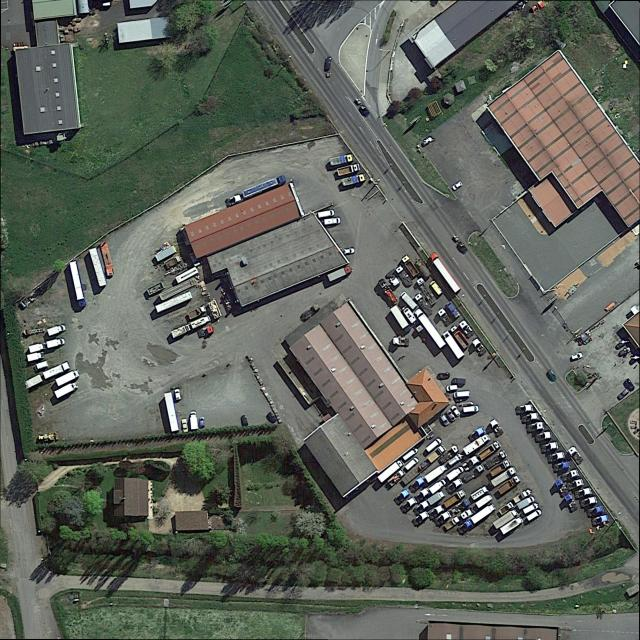large-vehicle: (428, 250, 461, 294), (414, 308, 447, 349), (241, 172, 288, 199), (69, 259, 87, 307), (415, 275, 439, 306), (377, 458, 405, 483), (463, 432, 492, 456), (442, 330, 464, 359), (490, 466, 517, 488), (470, 503, 496, 525), (42, 361, 71, 380), (477, 439, 502, 461), (450, 325, 472, 350), (493, 508, 519, 529), (377, 277, 398, 303), (413, 291, 434, 317), (391, 305, 411, 332), (497, 474, 522, 495), (484, 448, 508, 469), (462, 462, 486, 483), (424, 463, 448, 484), (442, 488, 467, 508), (489, 457, 513, 477), (400, 254, 420, 278), (54, 381, 79, 400), (55, 369, 81, 387), (426, 442, 447, 464), (394, 264, 414, 287), (566, 443, 586, 466), (500, 516, 524, 535), (327, 265, 353, 282), (450, 497, 472, 517), (439, 444, 460, 464), (399, 290, 419, 311), (387, 468, 407, 488), (186, 303, 208, 321), (401, 304, 419, 325), (433, 509, 452, 528), (467, 424, 486, 443), (170, 323, 191, 340), (585, 502, 606, 519), (337, 163, 362, 177), (393, 488, 411, 507), (470, 484, 490, 501), (445, 300, 462, 320), (342, 173, 366, 187), (563, 492, 579, 513), (190, 315, 212, 330), (447, 451, 465, 469), (400, 496, 418, 514), (461, 455, 480, 472), (427, 489, 446, 506), (164, 253, 183, 270), (457, 517, 474, 536), (513, 488, 533, 504), (554, 477, 570, 497), (437, 306, 452, 327), (329, 154, 355, 166), (446, 477, 464, 494), (443, 515, 461, 532), (428, 478, 446, 495), (412, 510, 430, 527), (472, 337, 488, 356), (489, 418, 505, 437), (561, 467, 580, 483), (591, 513, 611, 528), (540, 439, 560, 454), (413, 499, 430, 516), (408, 476, 426, 492), (425, 437, 443, 453), (517, 495, 536, 510), (197, 324, 216, 339), (459, 320, 474, 339), (47, 323, 67, 337), (579, 494, 599, 508), (573, 486, 593, 500), (526, 420, 546, 434), (446, 466, 464, 481), (566, 477, 585, 491), (552, 460, 571, 474), (520, 411, 540, 424), (498, 500, 514, 516), (414, 487, 430, 503), (428, 504, 445, 519), (46, 337, 67, 349), (535, 429, 553, 443), (26, 351, 46, 363), (515, 403, 535, 415), (402, 446, 418, 461), (522, 501, 539, 515), (547, 450, 565, 463), (405, 456, 420, 471), (526, 509, 542, 522), (29, 342, 46, 354), (430, 280, 443, 295), (190, 410, 199, 430), (392, 337, 410, 347), (318, 210, 335, 218), (463, 405, 479, 413), (324, 218, 341, 225), (454, 391, 470, 398)
small-vehicle: (616, 387, 631, 402), (445, 408, 458, 423), (450, 403, 463, 418), (33, 360, 49, 372), (615, 338, 629, 351), (265, 411, 278, 425), (358, 104, 371, 118), (457, 240, 470, 254), (547, 368, 559, 383), (624, 377, 636, 392), (618, 346, 632, 358), (451, 179, 464, 191), (571, 351, 585, 362), (439, 413, 450, 427), (180, 417, 189, 434), (324, 55, 332, 72), (422, 136, 434, 147), (437, 371, 450, 381), (343, 246, 357, 255), (174, 388, 182, 401), (240, 413, 248, 426), (446, 384, 459, 392), (452, 378, 467, 384), (199, 416, 205, 426)
